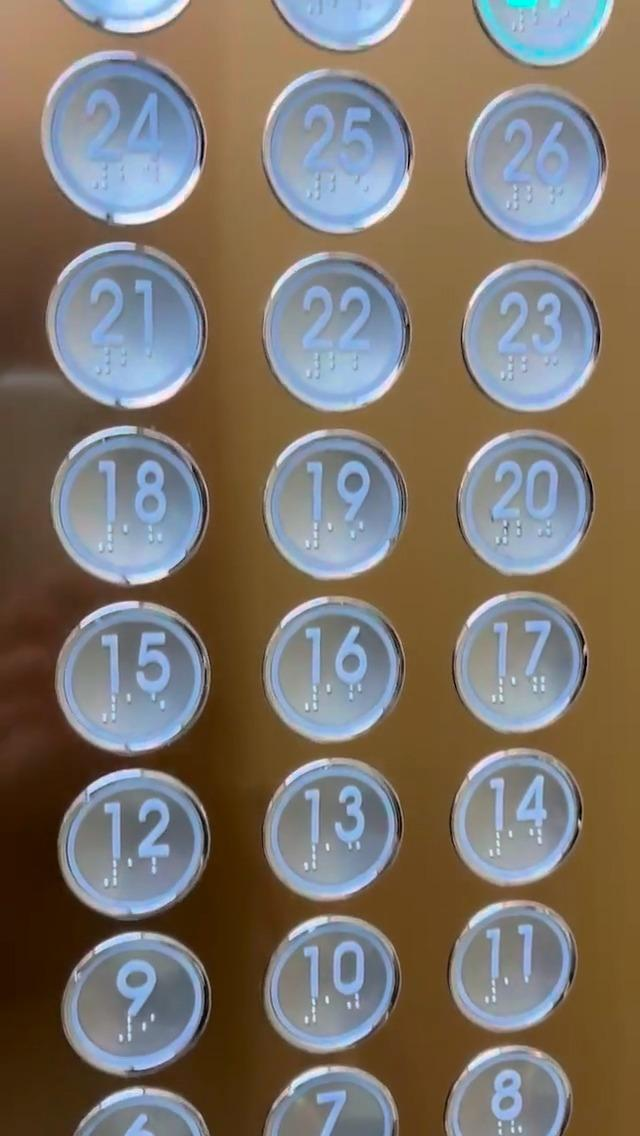button: (46, 59, 196, 230), (59, 250, 199, 416), (269, 74, 417, 231), (54, 439, 207, 589), (69, 609, 214, 763), (73, 929, 219, 1077), (266, 254, 401, 413), (469, 260, 597, 426), (267, 593, 406, 743), (261, 439, 406, 579), (66, 774, 206, 919), (446, 899, 586, 1037), (473, 100, 609, 240), (466, 446, 600, 580), (266, 766, 399, 900), (461, 603, 591, 737), (454, 760, 586, 887), (283, 924, 384, 1060), (453, 1054, 577, 1136)
